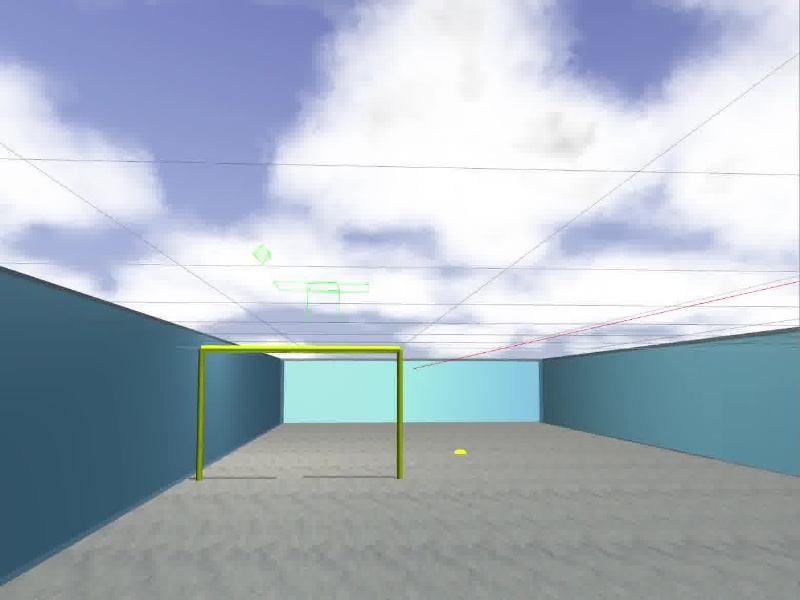gate: (196, 344, 405, 480)
